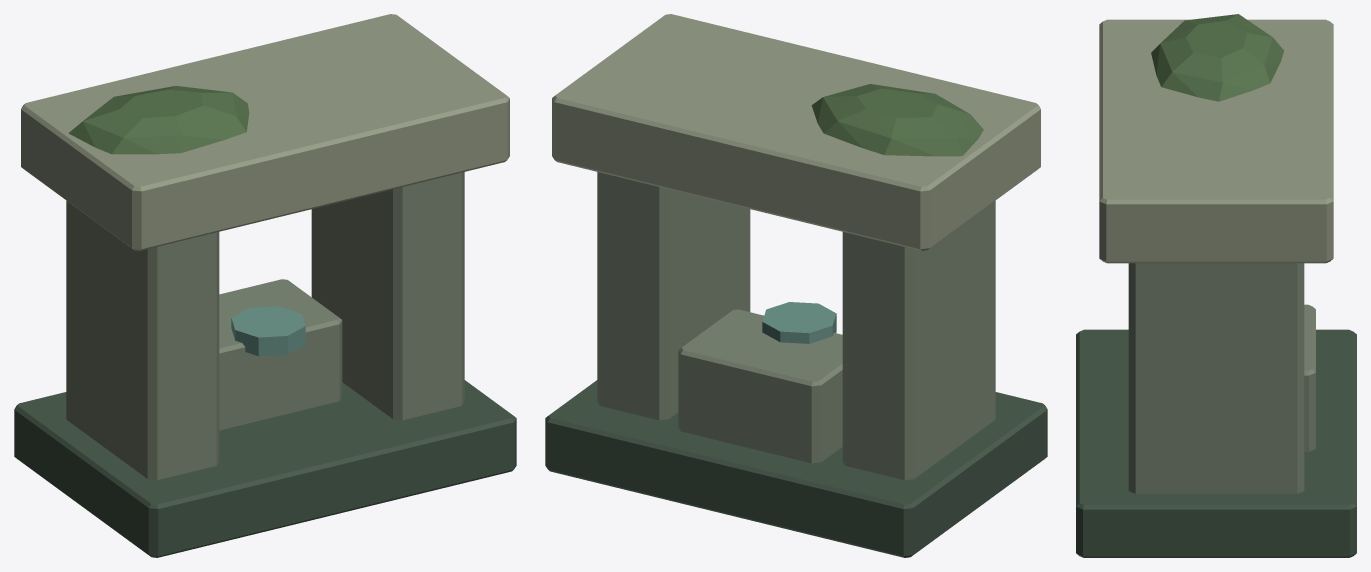
File: compact-shrine.glb
The picture shows the model from 3 angles, left to right: view 1: azimuth 30°, elevation 25°; view 2: azimuth 150°, elevation 25°; view 3: azimuth 270°, elevation 25°; orthographic projection.
Visible parts, largest first — view 1: compact-shrine__body; view 2: compact-shrine__body; view 3: compact-shrine__body.
Part boxes in pixels (<box>): compact-shrine__body: <box>14,14,516,557</box>; compact-shrine__body: <box>545,14,1047,557</box>; compact-shrine__body: <box>1076,14,1356,557</box>.
Size of the model in its own units: 0.74 by 0.72 by 0.48.
